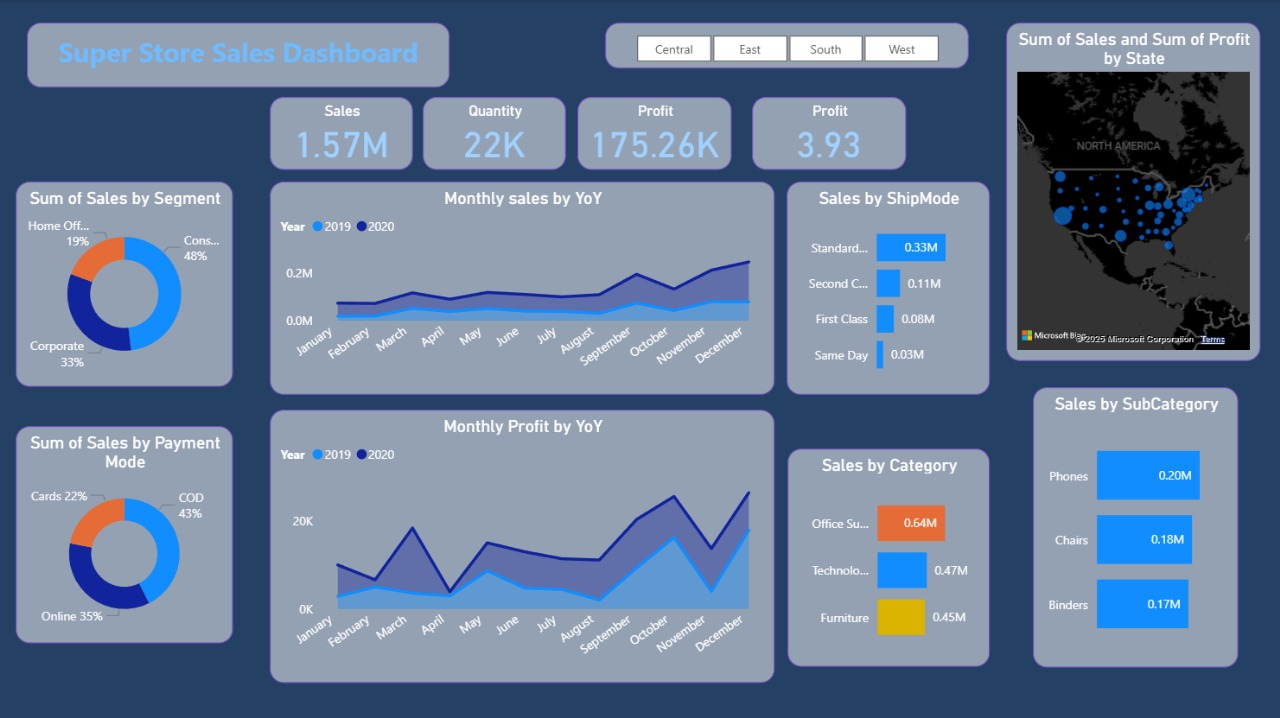

This screenshot's page, from the dashboard's own definition file:
{"tool":"powerbi","page":{"name":"Page 1","canvas":[1280,720],"ordinal":0},"visuals":[{"type":"clusteredBarChart","title":"Sales by Category","fields":{"Category":["SuperStore_Sales_Dataset.Category"],"Y":["Sum(SuperStore_Sales_Dataset.Sales)"]},"box":[787,448,202,218],"z":0},{"type":"clusteredBarChart","title":"Sales by SubCategory","fields":{"Category":["SuperStore_Sales_Dataset.Sub-Category"],"Y":["Sum(SuperStore_Sales_Dataset.Sales)"]},"box":[1032,386,205,280],"z":1000},{"type":"clusteredBarChart","title":"Sales by ShipMode","fields":{"Category":["SuperStore_Sales_Dataset.Ship Mode"],"Y":["Sum(SuperStore_Sales_Dataset.Sales)"]},"box":[786,181,203,213],"z":2000},{"type":"stackedAreaChart","title":"Monthly sales by YoY","fields":{"Y":["Sum(SuperStore_Sales_Dataset.Sales)"],"Category":["SuperStore_Sales_Dataset.Order Date.Variation.Date Hierarchy.Month","SuperStore_Sales_Dataset.Order Date.Variation.Date Hierarchy.Day"],"Series":["SuperStore_Sales_Dataset.Order Date.Variation.Date Hierarchy.Year"]},"box":[270,181,504,213],"z":3000},{"type":"stackedAreaChart","title":"Monthly Profit by YoY","fields":{"Category":["SuperStore_Sales_Dataset.Order Date.Variation.Date Hierarchy.Month","SuperStore_Sales_Dataset.Order Date.Variation.Date Hierarchy.Day"],"Series":["SuperStore_Sales_Dataset.Order Date.Variation.Date Hierarchy.Year"],"Y":["Sum(SuperStore_Sales_Dataset.Profit)"]},"box":[270,409,504,273],"z":4000},{"type":"map","fields":{"Category":["SuperStore_Sales_Dataset.State"],"Size":["Sum(SuperStore_Sales_Dataset.Sales)"]},"box":[1005,22,254,338],"z":5000},{"type":"donutChart","fields":{"Category":["SuperStore_Sales_Dataset.Segment"],"Y":["Sum(SuperStore_Sales_Dataset.Sales)"]},"box":[16.5,180.9,216.9,205.2],"z":6000},{"type":"donutChart","fields":{"Category":["SuperStore_Sales_Dataset.Payment Mode"],"Y":["Sum(SuperStore_Sales_Dataset.Sales)"]},"box":[16.5,425,216.9,216.9],"z":7000},{"type":"slicer","fields":{"Values":["SuperStore_Sales_Dataset.Region"]},"box":[605,22,363,46],"z":8000},{"type":"textbox","box":[27.2,22.4,422.1,65.2],"z":9000},{"type":"card","title":"Sales","fields":{"Values":["Sum(SuperStore_Sales_Dataset.Sales)"]},"box":[270,97,143,73],"z":10000},{"type":"card","title":"Quantity","fields":{"Values":["Sum(SuperStore_Sales_Dataset.Quantity)"]},"box":[423,97,143,73],"z":11000},{"type":"card","title":"Profit","fields":{"Values":["Sum(SuperStore_Sales_Dataset.Profit)"]},"box":[577,97,154,73],"z":12000},{"type":"card","title":"Profit","fields":{"Values":["Avg(SuperStore_Sales_Dataset.AvgDelivery)"]},"box":[751,97,154,73],"z":13000}]}

Visuals, with their boxes in screenshot pixels (x1, y1, x2, y2), scaled from the page's 1280x720 canvas onto the 1280x718 screenshot:
"Sales by Category" clusteredBarChart: 787/447/989/664
"Sales by SubCategory" clusteredBarChart: 1032/385/1237/664
"Sales by ShipMode" clusteredBarChart: 786/180/989/393
"Monthly sales by YoY" stackedAreaChart: 270/180/774/393
"Monthly Profit by YoY" stackedAreaChart: 270/408/774/680
map - SuperStore_Sales_Dataset.State x Sum(SuperStore_Sales_Dataset.Sales): 1005/22/1259/359
donutChart - SuperStore_Sales_Dataset.Segment x Sum(SuperStore_Sales_Dataset.Sales): 16/180/233/385
donutChart - SuperStore_Sales_Dataset.Payment Mode x Sum(SuperStore_Sales_Dataset.Sales): 16/424/233/640
slicer - SuperStore_Sales_Dataset.Region: 605/22/968/68
textbox: 27/22/449/87
"Sales" card: 270/97/413/170
"Quantity" card: 423/97/566/170
"Profit" card: 577/97/731/170
"Profit" card: 751/97/905/170
